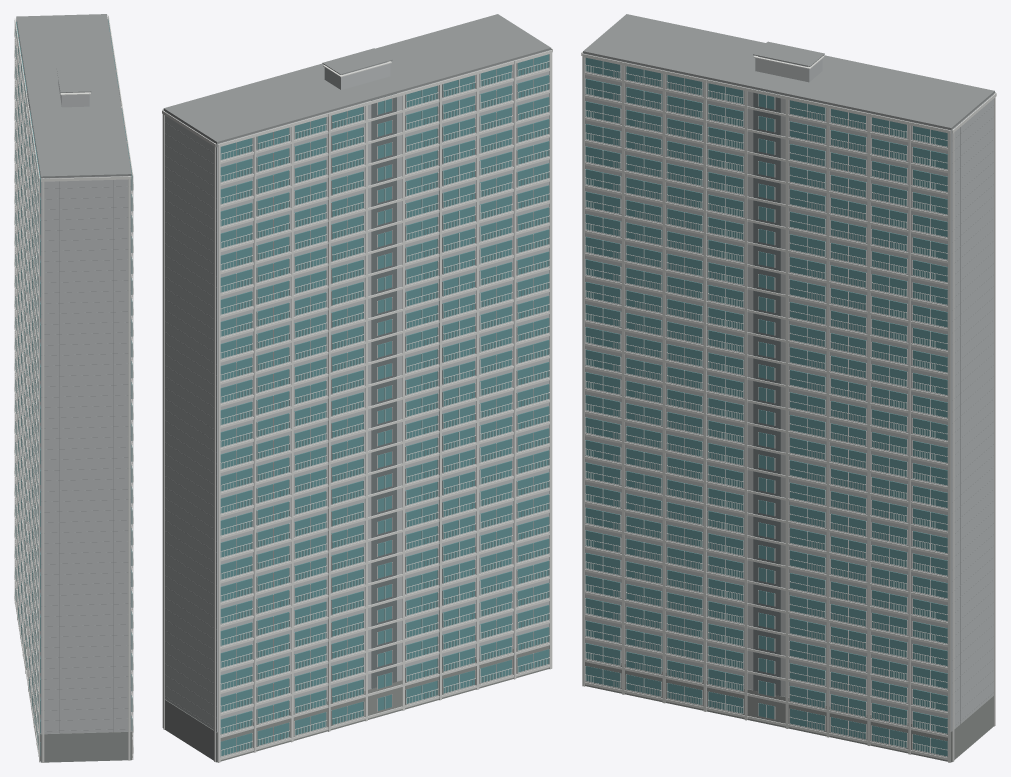
File: bespoke-jamsil-ricenz-250.glb
The picture shows the model from 3 angles, left to right: view 1: azimuth 30°, elevation 25°; view 2: azimuth 150°, elevation 25°; view 3: azimuth 270°, elevation 25°; orthographic projection. The views are drawn at different scales.
Visible parts, largest first — view 1: Ricenz250_editable_Ricenz250_light_grey_solid_wall, Ricenz250_editable_Ricenz250_modest_grey_flat_roof_caps, Ricenz250_white_exact_chunk_3, Ricenz250_editable_Ricenz250_turquoise_balcony_glazing, Ricenz250_white_exact_chunk_1, Ricenz250_white_exact_chunk_2, Ricenz250_white_exact_chunk_0, Ricenz250_editable_Ricenz250_muted_ground_wall, Ricenz250_white_exact_chunk_6; view 2: Ricenz250_editable_Ricenz250_turquoise_balcony_glazing, Ricenz250_editable_Ricenz250_light_grey_solid_wall, Ricenz250_white_exact_chunk_3, Ricenz250_white_exact_chunk_1, Ricenz250_white_exact_chunk_2, Ricenz250_white_exact_chunk_0, Ricenz250_editable_Ricenz250_modest_grey_flat_roof_caps, Ricenz250_editable_Ricenz250_narrow_charcoal_service_strips, Ricenz250_editable_Ricenz250_muted_ground_wall, Ricenz250_white_exact_chunk_6; view 3: Ricenz250_editable_Ricenz250_turquoise_balcony_glazing, Ricenz250_editable_Ricenz250_light_grey_solid_wall, Ricenz250_white_exact_chunk_6, Ricenz250_white_exact_chunk_5, Ricenz250_white_exact_chunk_4, Ricenz250_editable_Ricenz250_modest_grey_flat_roof_caps, Ricenz250_white_exact_chunk_3, Ricenz250_editable_Ricenz250_narrow_charcoal_service_strips, Ricenz250_editable_Ricenz250_muted_ground_wall.
Part boxes in pixels (bbox=[...]): Ricenz250_editable_Ricenz250_light_grey_solid_wall: bbox=[16, 19, 131, 733]; Ricenz250_editable_Ricenz250_modest_grey_flat_roof_caps: bbox=[16, 14, 131, 733]; Ricenz250_white_exact_chunk_3: bbox=[14, 18, 133, 762]; Ricenz250_editable_Ricenz250_turquoise_balcony_glazing: bbox=[15, 19, 132, 755]; Ricenz250_white_exact_chunk_1: bbox=[19, 62, 30, 702]; Ricenz250_white_exact_chunk_2: bbox=[28, 114, 38, 756]; Ricenz250_white_exact_chunk_0: bbox=[14, 25, 22, 650]; Ricenz250_editable_Ricenz250_muted_ground_wall: bbox=[16, 581, 132, 762]; Ricenz250_white_exact_chunk_6: bbox=[60, 15, 133, 759]; Ricenz250_editable_Ricenz250_turquoise_balcony_glazing: bbox=[220, 54, 549, 756]; Ricenz250_editable_Ricenz250_light_grey_solid_wall: bbox=[164, 50, 550, 732]; Ricenz250_white_exact_chunk_3: bbox=[217, 48, 552, 762]; Ricenz250_white_exact_chunk_1: bbox=[293, 98, 439, 728]; Ricenz250_white_exact_chunk_2: bbox=[405, 64, 549, 697]; Ricenz250_white_exact_chunk_0: bbox=[220, 127, 328, 759]; Ricenz250_editable_Ricenz250_modest_grey_flat_roof_caps: bbox=[163, 14, 551, 727]; Ricenz250_editable_Ricenz250_narrow_charcoal_service_strips: bbox=[371, 93, 396, 688]; Ricenz250_editable_Ricenz250_muted_ground_wall: bbox=[165, 642, 549, 762]; Ricenz250_white_exact_chunk_6: bbox=[162, 61, 391, 761]; Ricenz250_editable_Ricenz250_turquoise_balcony_glazing: bbox=[585, 57, 947, 756]; Ricenz250_editable_Ricenz250_light_grey_solid_wall: bbox=[583, 53, 994, 731]; Ricenz250_white_exact_chunk_6: bbox=[582, 53, 996, 762]; Ricenz250_white_exact_chunk_5: bbox=[747, 93, 908, 751]; Ricenz250_white_exact_chunk_4: bbox=[624, 66, 785, 726]; Ricenz250_editable_Ricenz250_modest_grey_flat_roof_caps: bbox=[583, 14, 994, 725]; Ricenz250_white_exact_chunk_3: bbox=[581, 51, 995, 700]; Ricenz250_editable_Ricenz250_narrow_charcoal_service_strips: bbox=[753, 88, 780, 695]; Ricenz250_editable_Ricenz250_muted_ground_wall: bbox=[585, 659, 993, 762].
Size of the model in its own units: 32.58 by 85.59 by 49.47.
